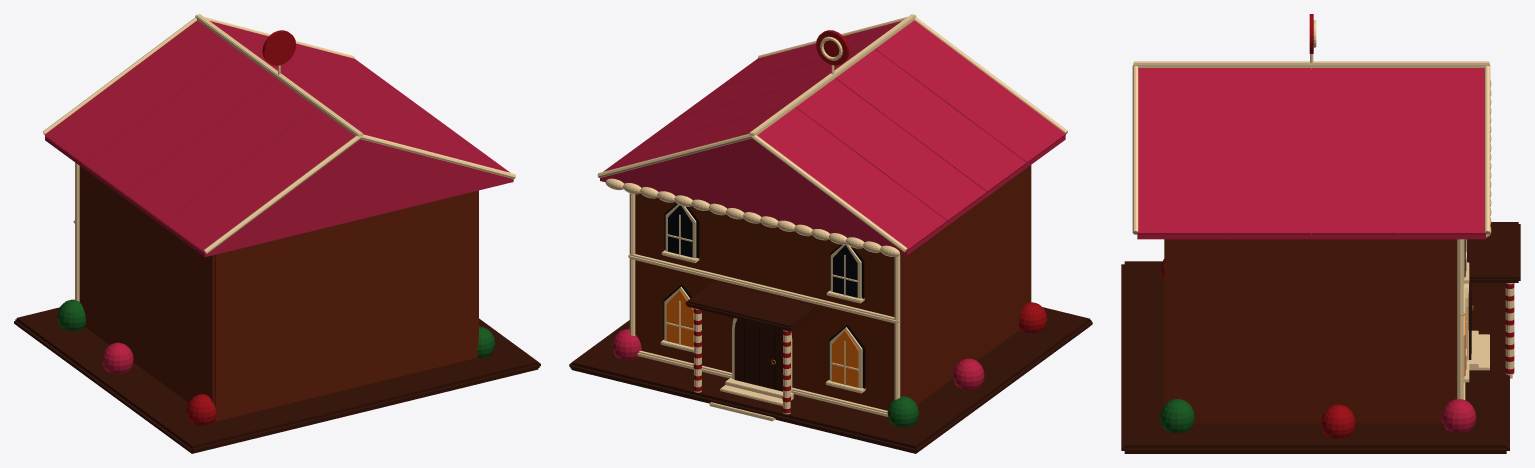
Rendered from gingerbread-manor-seasonal-visual.obj.
The picture shows the model from 3 angles, left to right: view 1: azimuth 30°, elevation 25°; view 2: azimuth 150°, elevation 25°; view 3: azimuth 270°, elevation 25°; orthographic projection. The views are drawn at different scales.
Parts seen in each view (by area): view 1: GingerbreadShell_01, Sweet_tiled_roof_01, Foundation_01, SweetGarden_01, Lollipop_01, IcingTrim_01; view 2: Sweet_tiled_roof_01, GingerbreadShell_01, Foundation_01, IcingTrim_01, Windows_01, Porch_01, Entrance_01, SweetGarden_01, Approach_01, Lollipop_01; view 3: Sweet_tiled_roof_01, GingerbreadShell_01, Foundation_01, Porch_01, SweetGarden_01, IcingTrim_01, Approach_01, Windows_01, Entrance_01.
Part boxes in pixels (x1,y1,x2,y2): GingerbreadShell_01: (79,166,478,421); Sweet_tiled_roof_01: (42,14,515,257); Foundation_01: (14,307,540,453); SweetGarden_01: (57,299,494,425); Lollipop_01: (262,30,296,74); IcingTrim_01: (73,162,79,301); Sweet_tiled_roof_01: (597,14,1067,255); GingerbreadShell_01: (635,165,1031,410); Foundation_01: (569,307,1092,453); IcingTrim_01: (605,178,900,416); Windows_01: (660,203,865,393); Porch_01: (685,281,818,414); Entrance_01: (732,318,792,392); SweetGarden_01: (612,302,1047,427); Approach_01: (709,378,793,421); Lollipop_01: (816,30,849,74); Sweet_tiled_roof_01: (1132,61,1490,239); GingerbreadShell_01: (1164,239,1456,423); Foundation_01: (1121,261,1509,453); Porch_01: (1467,222,1520,375); SweetGarden_01: (1160,259,1476,438); IcingTrim_01: (1457,79,1491,399); Approach_01: (1468,330,1512,378); Windows_01: (1463,239,1469,382); Entrance_01: (1465,283,1473,360).
Size of the model in its own units: 33 by 28.5 by 29.8.
